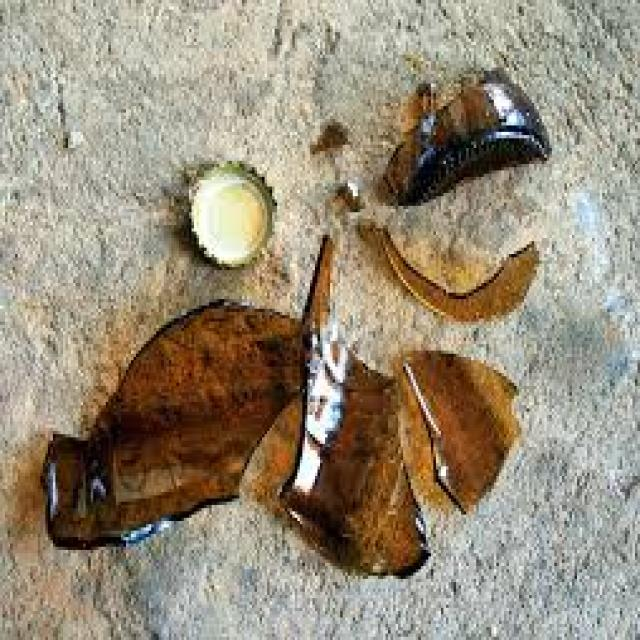glass: (43, 235, 514, 572), (406, 71, 547, 199), (375, 228, 537, 318)
